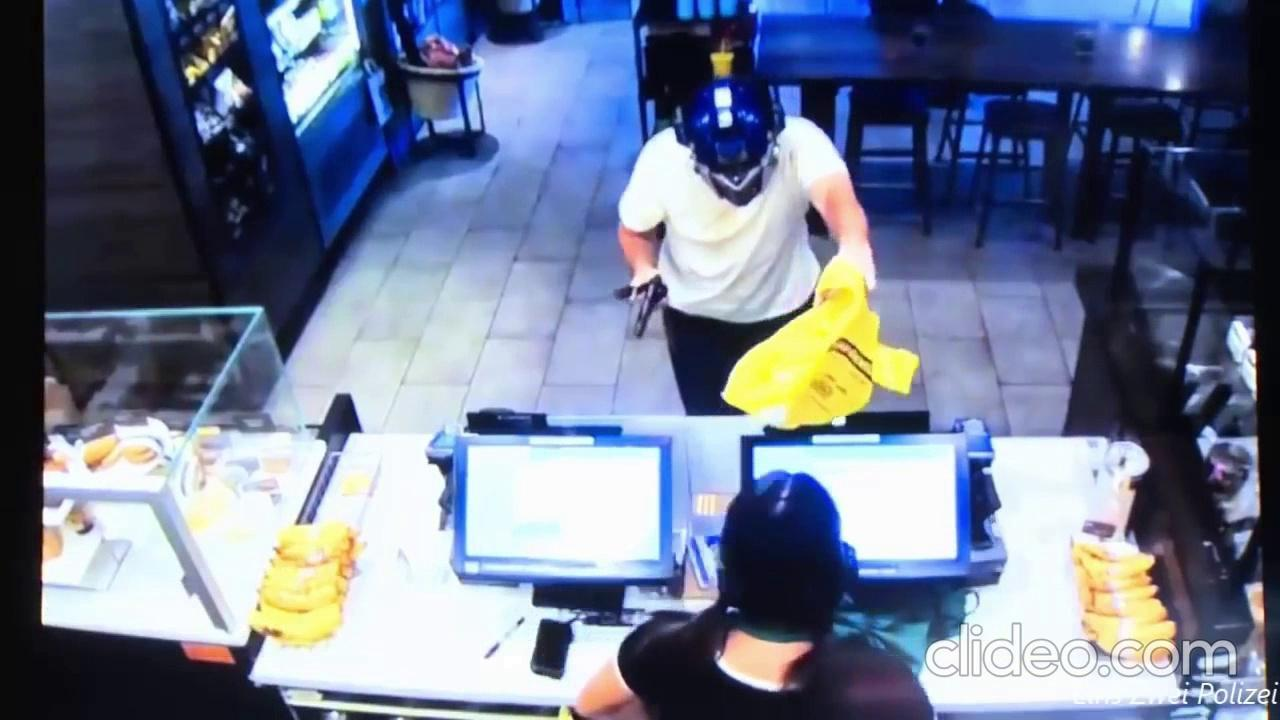person: (570, 464, 939, 720), (614, 66, 879, 411)
pistol: (629, 269, 670, 346)
